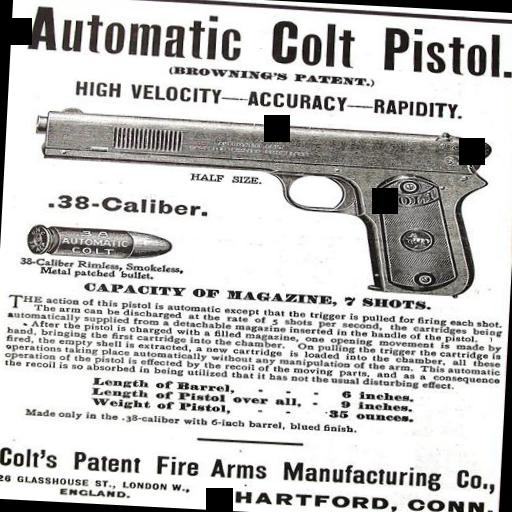Handgun: (18, 97, 494, 305)
